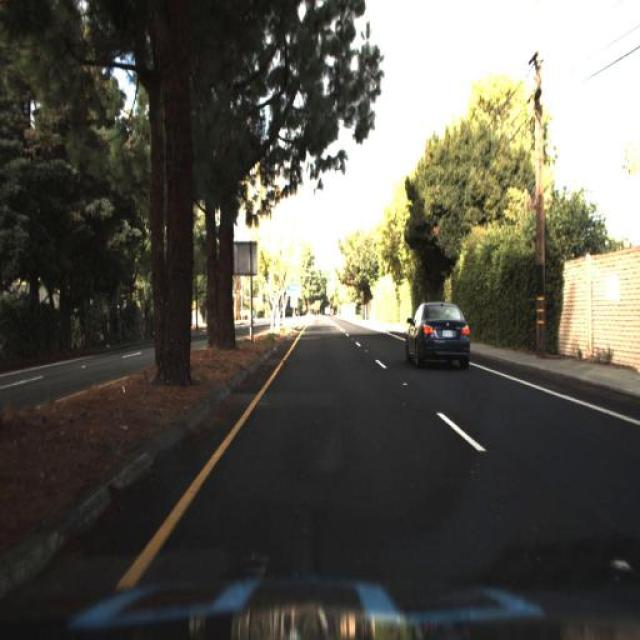car: (402, 300, 473, 370)
